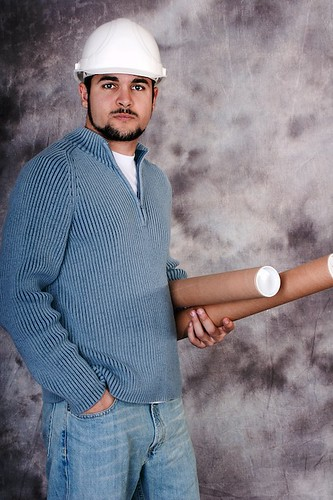person hardhat: (3, 22, 236, 500)
